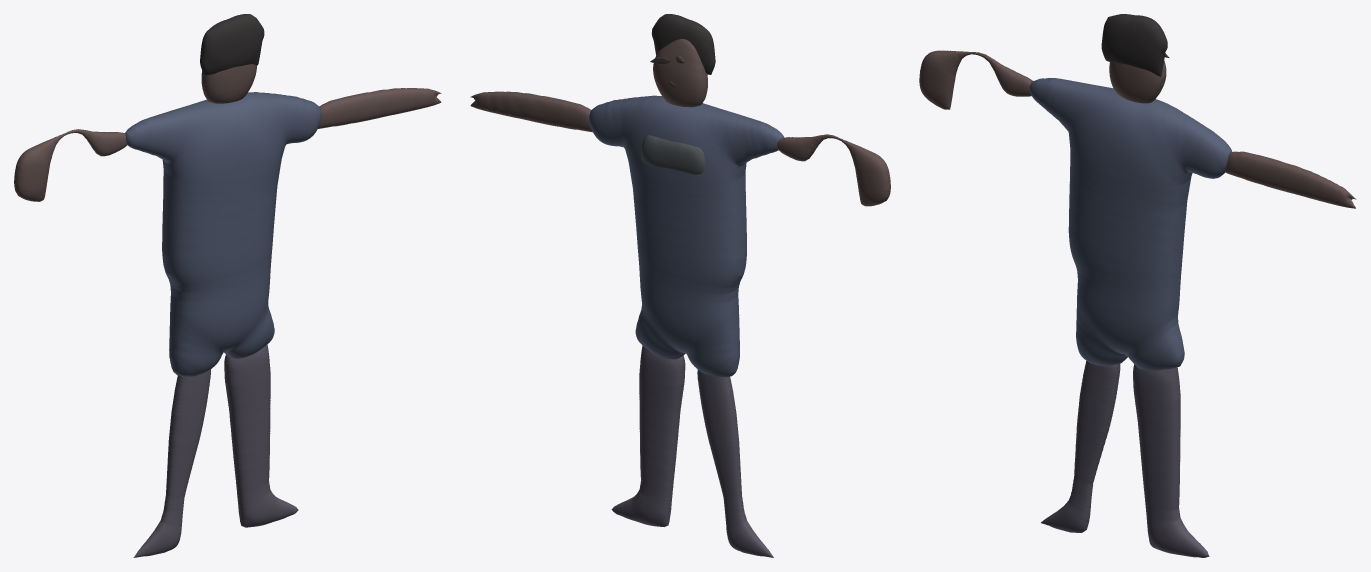
Rendered from cuzsiename2.fbx.
The picture shows the model from 3 angles, left to right: view 1: azimuth 30°, elevation 25°; view 2: azimuth 150°, elevation 25°; view 3: azimuth 330°, elevation 25°; orthographic projection. The views are drawn at different scales.
Parts seen in each view (by area): view 1: node_id106 (×5), node_id62 (×2); view 2: node_id106 (×6), node_id62 (×2); view 3: node_id106 (×5), node_id62 (×2).
Boxes of the visible parts, bbox=[...] form: node_id106 (×5): bbox=[14, 88, 441, 557]; node_id62 (×2): bbox=[200, 14, 264, 103]; node_id106 (×6): bbox=[470, 91, 890, 557]; node_id62 (×2): bbox=[651, 14, 715, 107]; node_id106 (×5): bbox=[919, 50, 1356, 557]; node_id62 (×2): bbox=[1101, 14, 1167, 103].
Size of the model in its own units: 0.5169 by 0.6054 by 0.0671.
